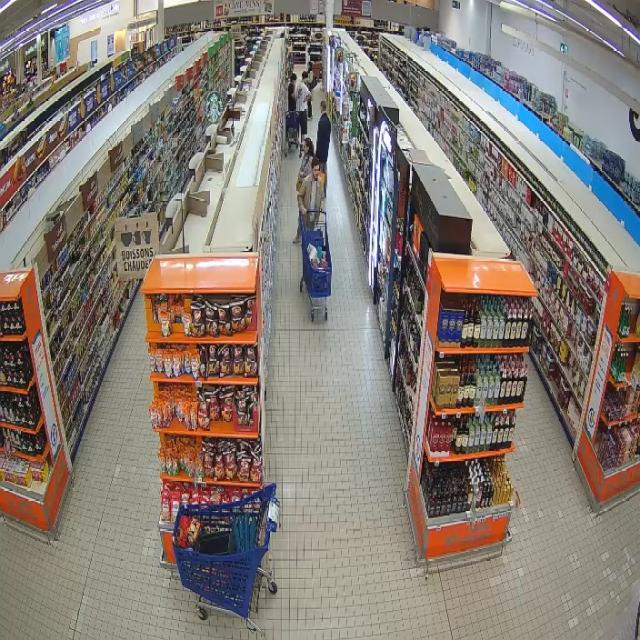hands: (300, 205, 307, 214), (320, 200, 325, 211)
person: (298, 158, 325, 226), (315, 99, 331, 193), (296, 138, 314, 191), (295, 82, 310, 142), (287, 72, 296, 110), (293, 231, 299, 242)
